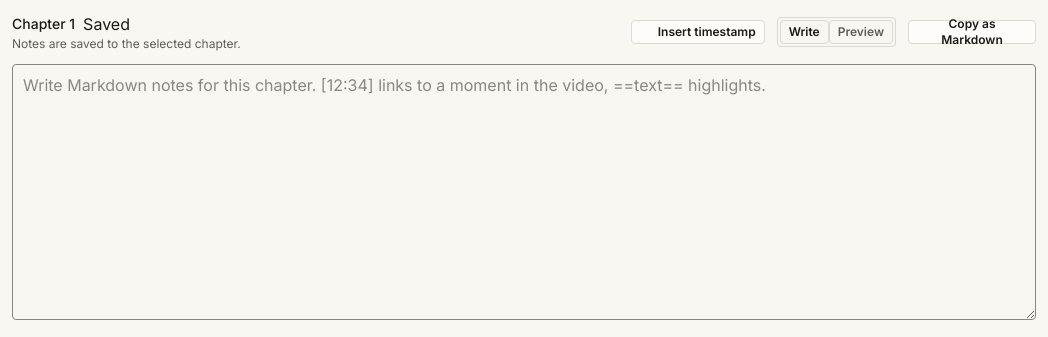
Test: NotesEditor › inserts the current video time at the cursor
Replace the text in the text box named "Chapter notes" with "Migrations run". click: (524,192)
box: top-left (12, 64), bottom-right (1036, 320)
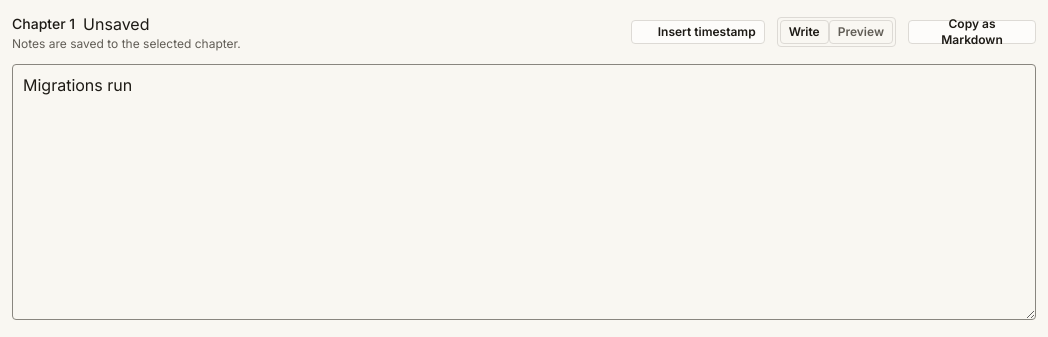
Click the button "Insert timestamp". click: (698,32)
box: top-left (631, 20), bottom-right (765, 44)
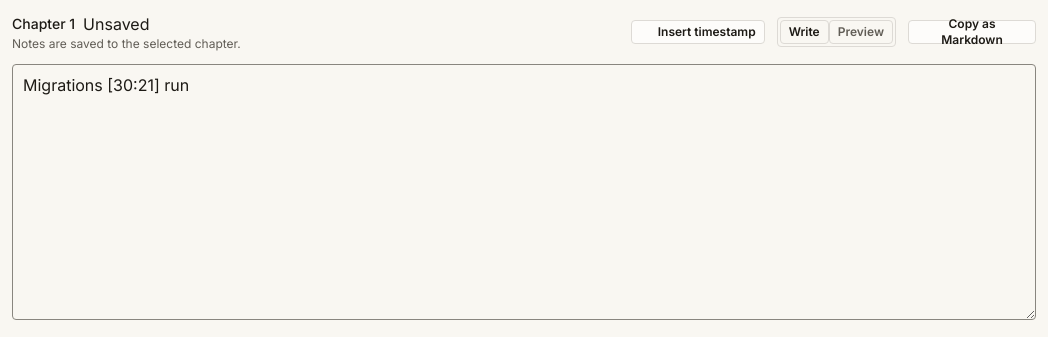
Expected: the text box named "Chapter notes" holds "Migrations [30:21] run"
